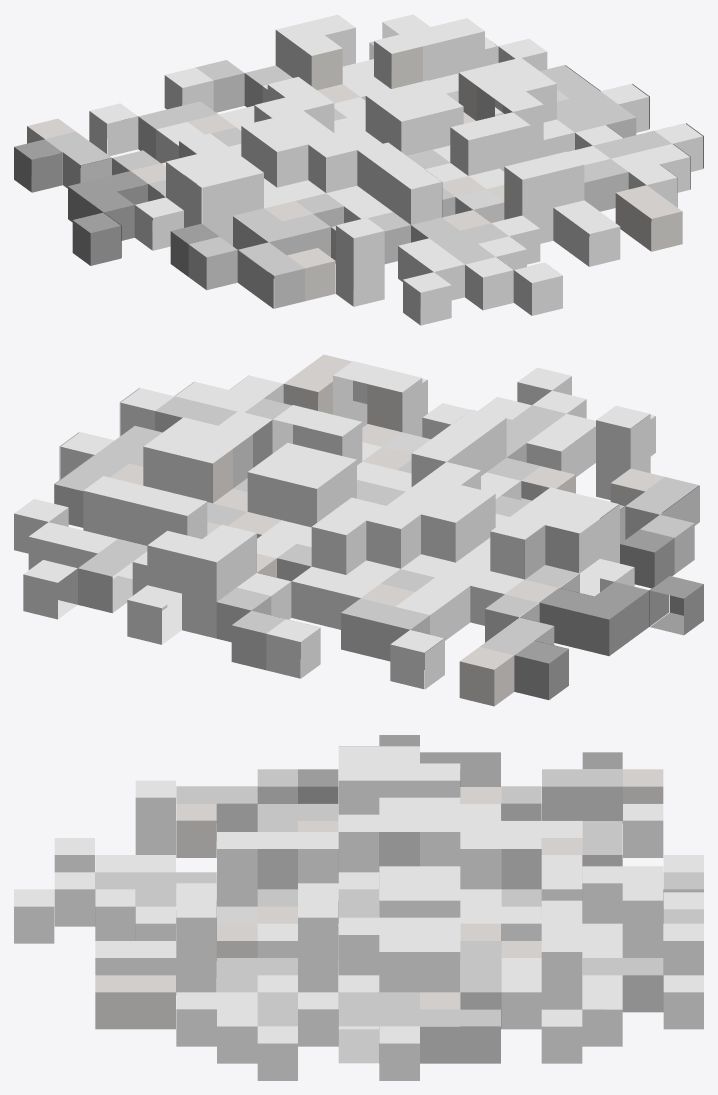
File: scorchmark_8.gltf
The picture shows the model from 3 angles, top to bottom: view 1: azimuth 30°, elevation 25°; view 2: azimuth 150°, elevation 25°; view 3: azimuth 270°, elevation 25°; orthographic projection. The views are drawn at different scales.
Parts seen in each view (by area): view 1: scorchmark_8; view 2: scorchmark_8; view 3: scorchmark_8.
Boxes of the visible parts, x1=… form: scorchmark_8: x1=14, y1=14, x2=703, y2=325; scorchmark_8: x1=14, y1=354, x2=703, y2=706; scorchmark_8: x1=14, y1=735, x2=703, y2=1080.
Size of the model in its own units: 1.71 by 0.2005 by 1.62.
Materials: 1 (1 with a texture image).
